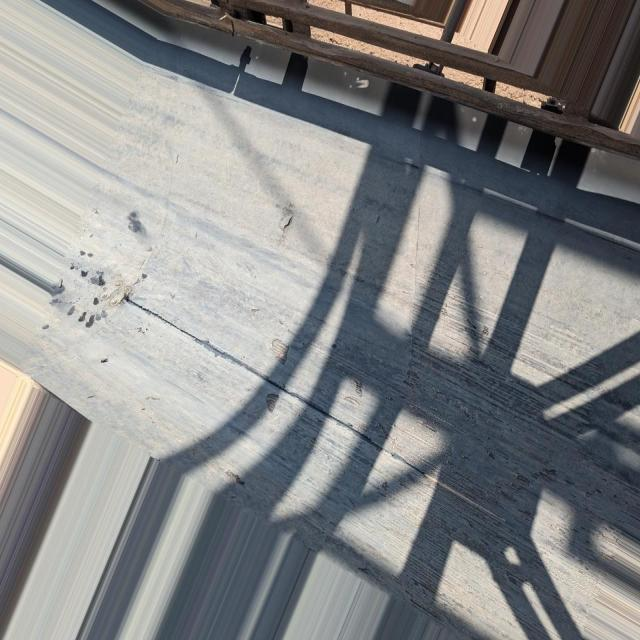Tear: (128, 296, 424, 481), (272, 336, 290, 366), (279, 216, 297, 230)
patch work: (98, 273, 138, 309)
